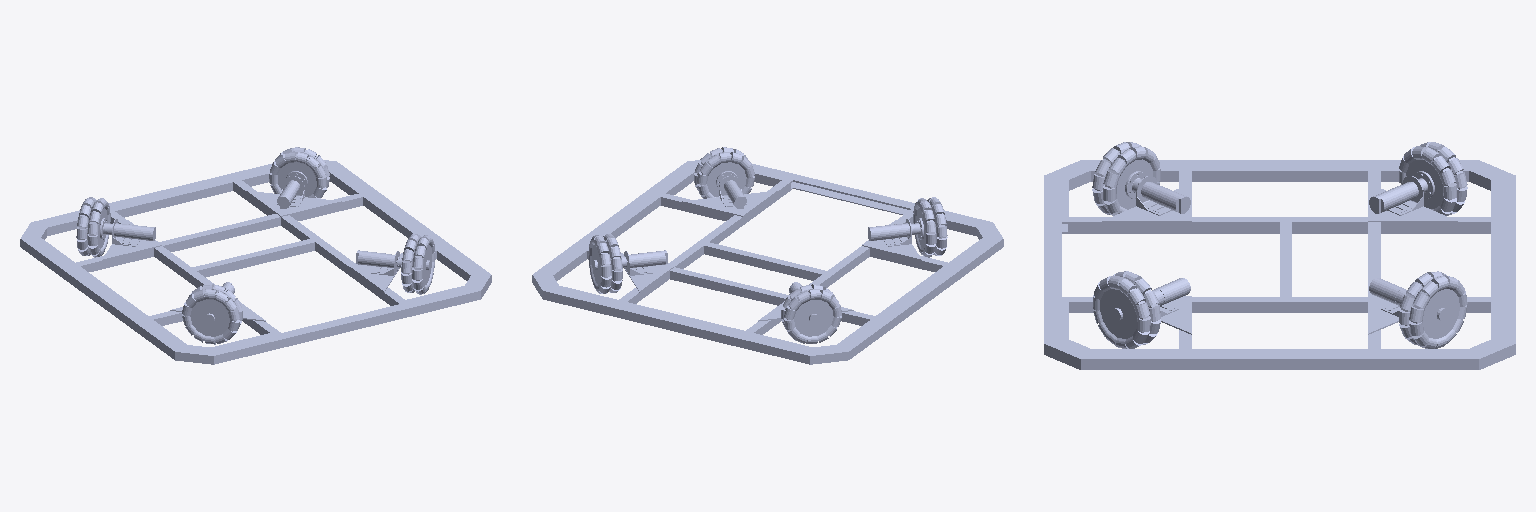
The robot description file, URDF, robot "pass Robot base chassis only":
<?xml version="1.0" encoding="utf-8"?>
<!-- This URDF was automatically created by SolidWorks to URDF Exporter! Originally created by [author] ([email redacted]) 
     Commit Version: 1.6.0-1-g15f4949  Build Version: 1.6.7594.29634
     For more information, please see http://wiki.ros.org/sw_urdf_exporter -->
<robot
  name="pass Robot base chassis only">
  <link
    name="base_link">
    <inertial>
      <origin
        xyz="-1.37853384173699E-07 0.00911018032229259 -0.0138175795946179"
        rpy="0 0 0" />
      <mass
        value="3.33742395913258" />
      <inertia
        ixx="0.250426120078327"
        ixy="-3.00125460867084E-08"
        ixz="4.78803529666138E-09"
        iyy="0.516132581145422"
        iyz="-5.01539743876123E-05"
        izz="0.266376294317246" />
    </inertial>
    <visual>
      <origin
        xyz="0 0 0"
        rpy="0 0 0" />
      <geometry>
        <mesh
          filename="package://pass Robot base chassis only/meshes/base_link.STL" />
      </geometry>
      <material
        name="">
        <color
          rgba="0.792156862745098 0.819607843137255 0.933333333333333 1" />
      </material>
    </visual>
    <collision>
      <origin
        xyz="0 0 0"
        rpy="0 0 0" />
      <geometry>
        <mesh
          filename="package://pass Robot base chassis only/meshes/base_link.STL" />
      </geometry>
    </collision>
  </link>
  <link
    name="wheel_1">
    <inertial>
      <origin
        xyz="-0.0045 -0.0197157882039066 0.0195537986386911"
        rpy="0 0 0" />
      <mass
        value="0.800931530661084" />
      <inertia
        ixx="0.00128506614804889"
        ixy="1.41623908780919E-18"
        ixz="6.50521303491303E-19"
        iyy="0.00128506614804889"
        iyz="-1.15874107184388E-18"
        izz="0.00250056149395625" />
    </inertial>
    <visual>
      <origin
        xyz="0 0 0"
        rpy="0 0 0" />
      <geometry>
        <mesh
          filename="package://pass Robot base chassis only/meshes/wheel_1.STL" />
      </geometry>
      <material
        name="">
        <color
          rgba="0.792156862745098 0.819607843137255 0.933333333333333 1" />
      </material>
    </visual>
    <collision>
      <origin
        xyz="0 0 0"
        rpy="0 0 0" />
      <geometry>
        <mesh
          filename="package://pass Robot base chassis only/meshes/wheel_1.STL" />
      </geometry>
    </collision>
  </link>
  <joint
    name="wheel_1"
    type="revolute">
    <origin
      xyz="0.30256 0.30135 0.023995"
      rpy="-1.5708 0.18221 -0.7854" />
    <parent
      link="base_link" />
    <child
      link="wheel_1" />
    <axis
      xyz="1 0 -1" />
    <limit
      lower="0"
      upper="1"
      effort="0"
      velocity="3" />
  </joint>
  <link
    name="wheel_2">
    <inertial>
      <origin
        xyz="-0.00449999999999995 -0.0197157882039066 -0.019553798638691"
        rpy="0 0 0" />
      <mass
        value="0.800931530661084" />
      <inertia
        ixx="0.00128506614804889"
        ixy="8.67361737988404E-19"
        ixz="-1.0842021724855E-19"
        iyy="0.00128506614804889"
        iyz="-1.35525271560688E-19"
        izz="0.00250056149395625" />
    </inertial>
    <visual>
      <origin
        xyz="0 0 0"
        rpy="0 0 0" />
      <geometry>
        <mesh
          filename="package://pass Robot base chassis only/meshes/wheel_2.STL" />
      </geometry>
      <material
        name="">
        <color
          rgba="0.792156862745098 0.819607843137255 0.933333333333333 1" />
      </material>
    </visual>
    <collision>
      <origin
        xyz="0 0 0"
        rpy="0 0 0" />
      <geometry>
        <mesh
          filename="package://pass Robot base chassis only/meshes/wheel_2.STL" />
      </geometry>
    </collision>
  </link>
  <joint
    name="wheel_2"
    type="revolute">
    <origin
      xyz="0.29811 -0.30581 0.024724"
      rpy="-1.5708 0.49705 0.7854" />
    <parent
      link="base_link" />
    <child
      link="wheel_2" />
    <axis
      xyz="1 0 1" />
    <limit
      lower="0"
      upper="1"
      effort="0"
      velocity="3" />
  </joint>
  <link
    name="wheel_3">
    <inertial>
      <origin
        xyz="-0.00450000000000006 -0.0197157882039067 0.0195537986386909"
        rpy="0 0 0" />
      <mass
        value="0.800931530661084" />
      <inertia
        ixx="0.00128506614804889"
        ixy="1.15196480826585E-18"
        ixz="-2.11419423634673E-18"
        iyy="0.00128506614804889"
        iyz="-2.83247817561838E-18"
        izz="0.00250056149395625" />
    </inertial>
    <visual>
      <origin
        xyz="0 0 0"
        rpy="0 0 0" />
      <geometry>
        <mesh
          filename="package://pass Robot base chassis only/meshes/wheel_3.STL" />
      </geometry>
      <material
        name="">
        <color
          rgba="0.792156862745098 0.819607843137255 0.933333333333333 1" />
      </material>
    </visual>
    <collision>
      <origin
        xyz="0 0 0"
        rpy="0 0 0" />
      <geometry>
        <mesh
          filename="package://pass Robot base chassis only/meshes/wheel_3.STL" />
      </geometry>
    </collision>
  </link>
  <joint
    name="wheel_3"
    type="revolute">
    <origin
      xyz="-0.29568 -0.30824 0.062368"
      rpy="1.5708 0.23035 -0.7854" />
    <parent
      link="base_link" />
    <child
      link="wheel_3" />
    <axis
      xyz="-1 0 1" />
    <limit
      lower="0"
      upper="1"
      effort="0"
      velocity="3" />
  </joint>
  <link
    name="wheel_4">
    <inertial>
      <origin
        xyz="-0.00450000000000007 -0.0197157882039067 -0.0195537986386909"
        rpy="0 0 0" />
      <mass
        value="0.800931530661084" />
      <inertia
        ixx="0.00128506614804889"
        ixy="1.19262238973405E-18"
        ixz="2.46655994240452E-18"
        iyy="0.00128506614804889"
        iyz="2.81892564846231E-18"
        izz="0.00250056149395625" />
    </inertial>
    <visual>
      <origin
        xyz="0 0 0"
        rpy="0 0 0" />
      <geometry>
        <mesh
          filename="package://pass Robot base chassis only/meshes/wheel_4.STL" />
      </geometry>
      <material
        name="">
        <color
          rgba="0.792156862745098 0.819607843137255 0.933333333333333 1" />
      </material>
    </visual>
    <collision>
      <origin
        xyz="0 0 0"
        rpy="0 0 0" />
      <geometry>
        <mesh
          filename="package://pass Robot base chassis only/meshes/wheel_4.STL" />
      </geometry>
    </collision>
  </link>
  <joint
    name="wheel_4"
    type="revolute">
    <origin
      xyz="-0.31368 0.29024 0.05579"
      rpy="1.5708 -1.1849 0.7854" />
    <parent
      link="base_link" />
    <child
      link="wheel_4" />
    <axis
      xyz="-1 0 -1" />
    <limit
      lower="0"
      upper="1"
      effort="0"
      velocity="3" />
  </joint>
</robot>

--- Facts derived from the render (not from the file) ---
Views: 3 orthographic renders of the robot side by side, from view 1: azimuth 30°, elevation 25°; view 2: azimuth 150°, elevation 25°; view 3: azimuth 270°, elevation 25°.
Robot: pass Robot base chassis only — 5 links, 4 joints (4 revolute); root link base_link; default pose: every joint at zero.
Links seen in each view (by area): view 1: base_link, wheel_3, wheel_1, wheel_2, wheel_4; view 2: base_link, wheel_4, wheel_2, wheel_1, wheel_3; view 3: base_link, wheel_2, wheel_1, wheel_3, wheel_4.
Boxes of the visible links, box(x1,y1,x2,y2) form: base_link: box(20, 160, 491, 364); wheel_3: box(182, 284, 242, 344); wheel_1: box(269, 147, 329, 198); wheel_2: box(401, 234, 434, 294); wheel_4: box(76, 197, 110, 257); base_link: box(532, 160, 1003, 364); wheel_4: box(781, 284, 841, 343); wheel_2: box(694, 147, 754, 198); wheel_1: box(588, 234, 622, 293); wheel_3: box(913, 197, 947, 257); base_link: box(1044, 160, 1515, 369); wheel_2: box(1093, 271, 1160, 348); wheel_1: box(1399, 271, 1467, 348); wheel_3: box(1092, 142, 1160, 215); wheel_4: box(1399, 142, 1467, 215).
Bounding box of the posed robot: 0.9708 × 0.9708 × 0.1593 m (x, y, z).
Meshes: 5 distinct files referenced, 5 mesh visuals loaded (5 binary STL).